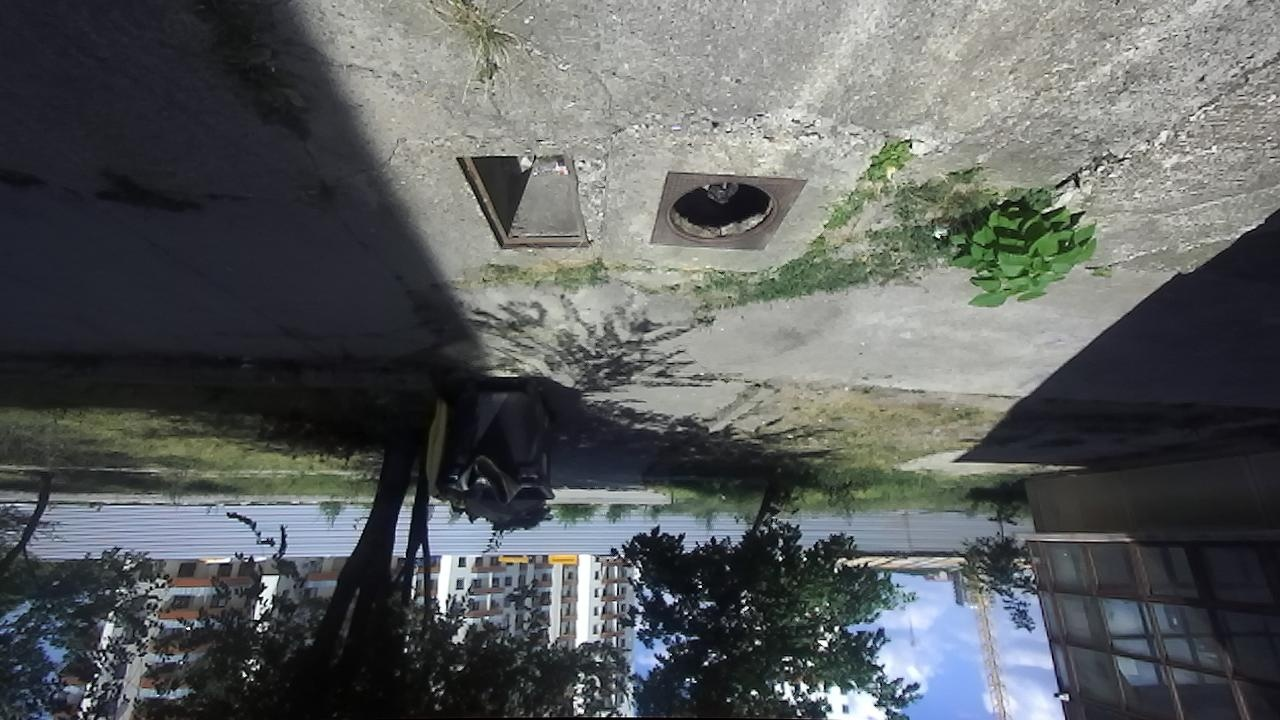drain: (447, 150, 595, 253), (661, 178, 787, 246)
